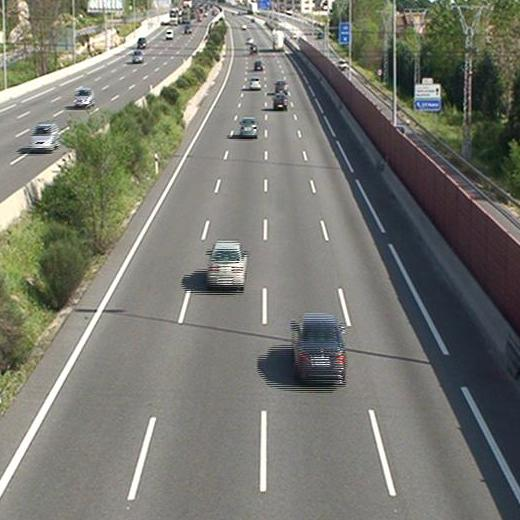car: (293, 316, 346, 379), (208, 242, 246, 286), (240, 118, 257, 137), (273, 94, 287, 109), (248, 77, 261, 90), (275, 81, 287, 92), (253, 59, 263, 71)
